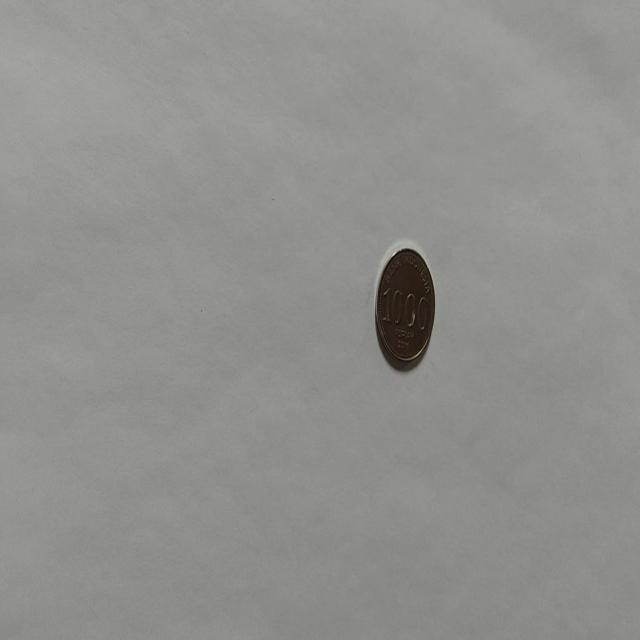seribu rupiah koin: (374, 242, 436, 370)
